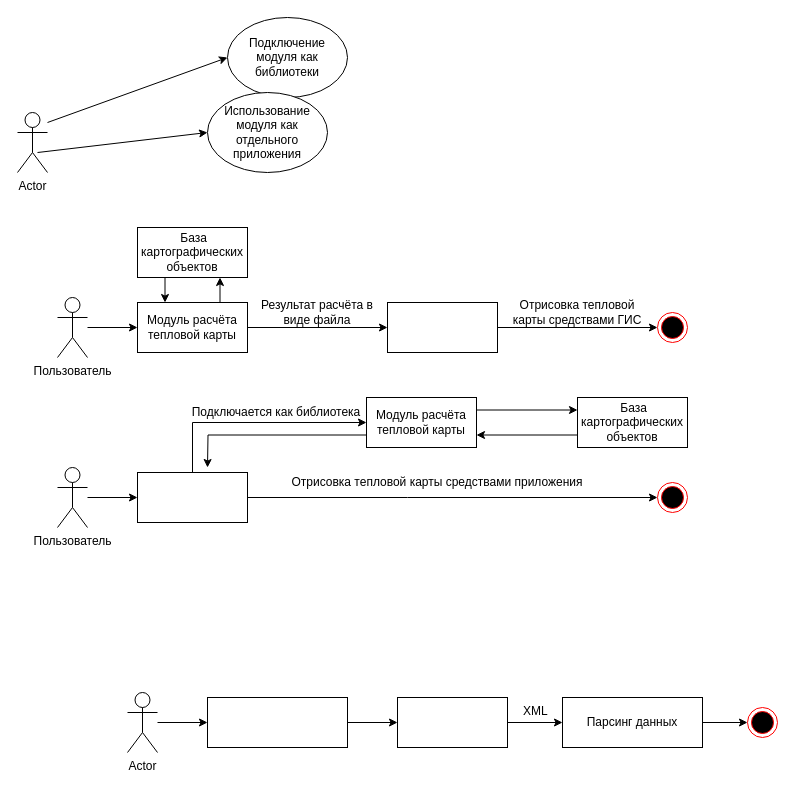
The diagram is 795 pixels wide and 791 high, and some of its shapes have lost their labels. Here are the shapes that lost their labels. From the top down, the centre of each, then its label:
At point (442, 327): "ГИС".
At point (192, 497): "Приложение".
At point (277, 722): "Подсистема доступа к данным локации".
At point (452, 722): "Сервер OSM (Overpass API)".
